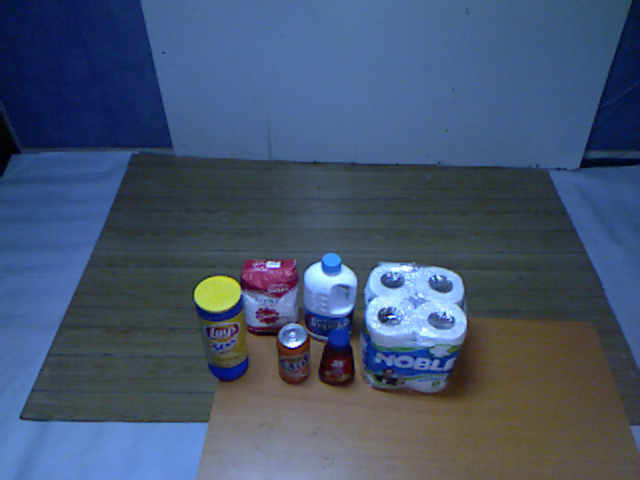cloro: (295, 249, 360, 345)
confort: (356, 260, 471, 398)
harina: (234, 254, 302, 336)
ketchup: (314, 328, 359, 391)
lata: (272, 319, 316, 387)
papas: (189, 272, 252, 384)
